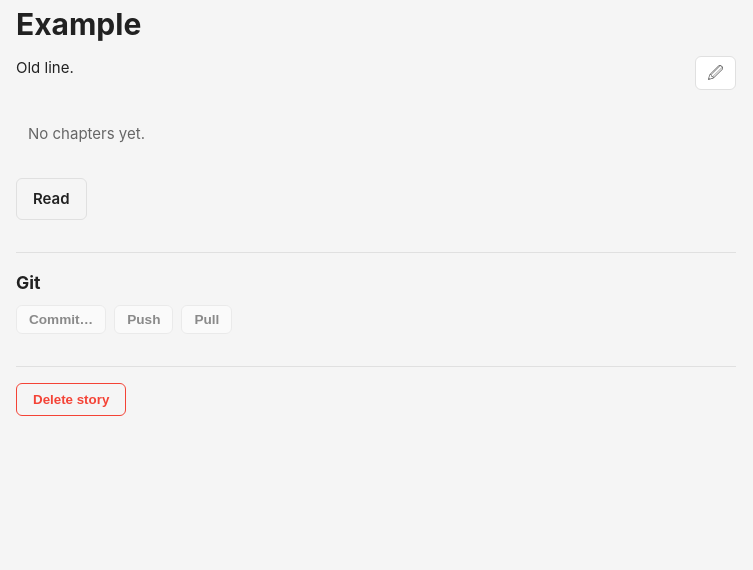
Test case: DashboardView.vue › editing the synopsis or the context › opens the text in a field, and saves it with the directory's name
The width and height of the screenshot is (753, 570).
Click the button named "Edit synopsis" at (716, 73), box [695,56,736,90]
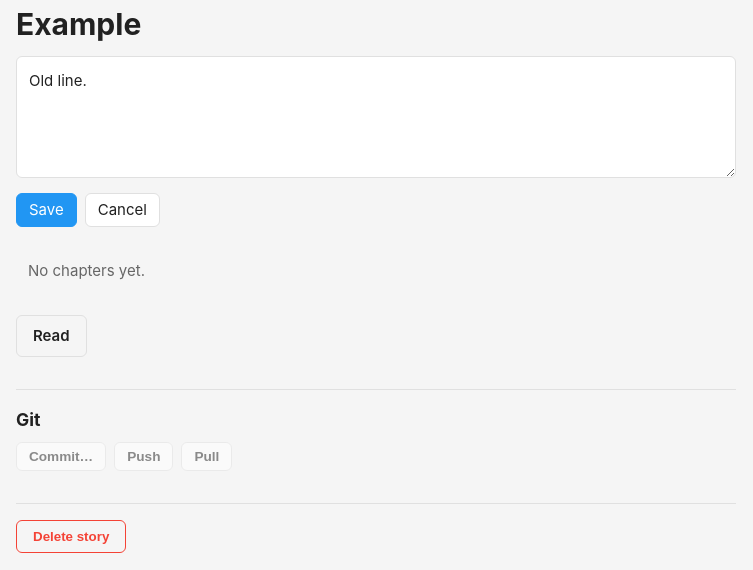
Expected: the text box named "Edit synopsis" holds "Old line."
Replace the text in the text box named "Edit synopsis" with "New line." at (376, 117), box [16,56,736,178]
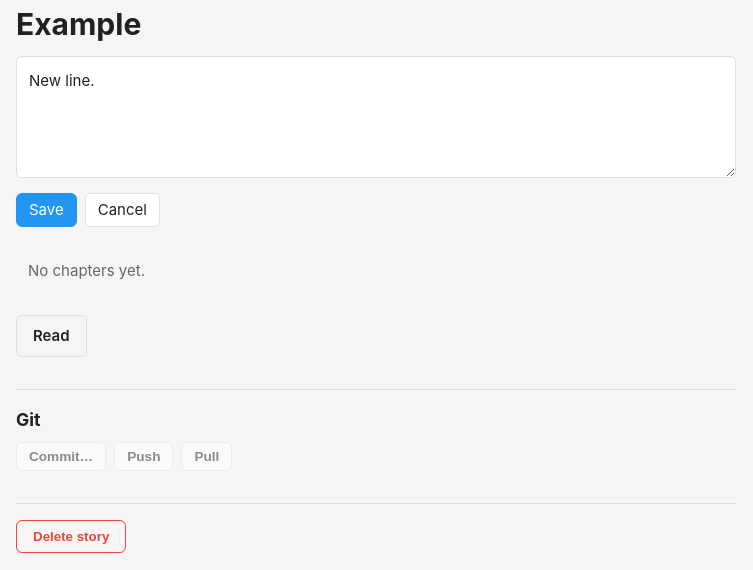
Click the button "Save" at (46, 210), box [16,193,77,227]
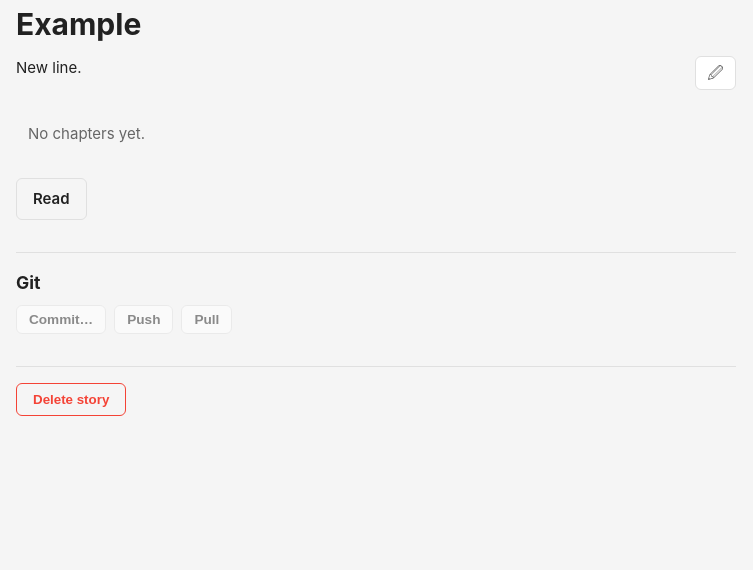
Expected: the text "New line." is shown, [16,58,82,77]
